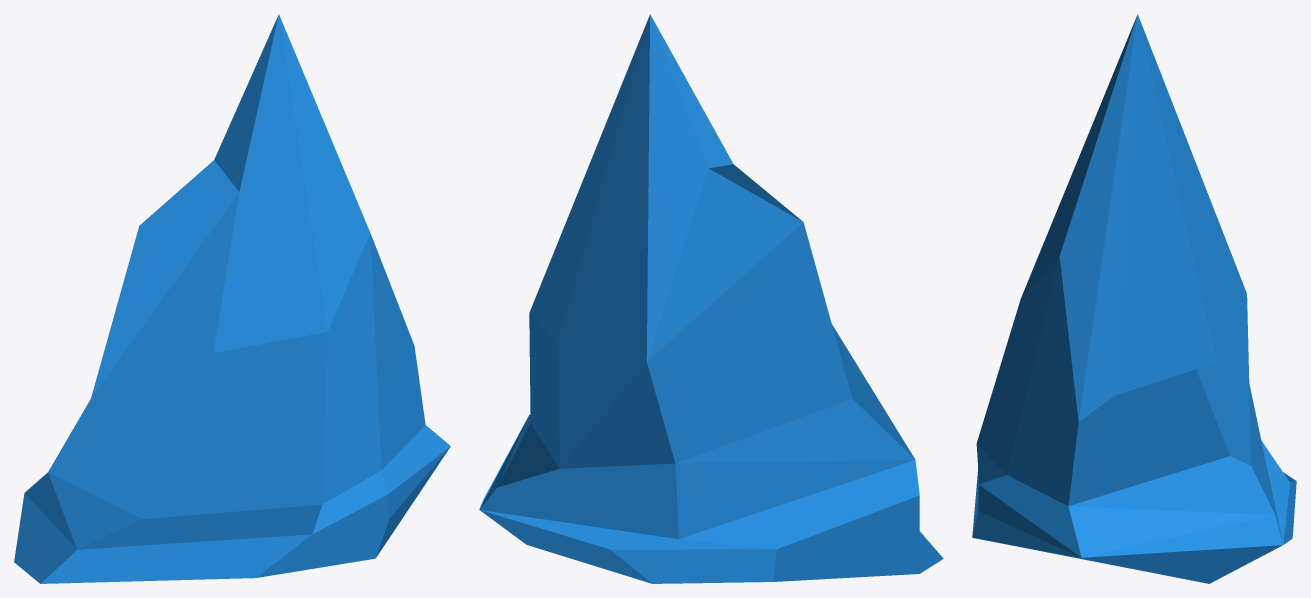
File: Mesh_Montagne3.fbx
3 renders of one model, left to right at view 1: azimuth 30°, elevation 25°; view 2: azimuth 150°, elevation 25°; view 3: azimuth 270°, elevation 25°, orthographic. The views are drawn at different scales.
Parts seen in each view (by area): view 1: montagne.003; view 2: montagne.003; view 3: montagne.003.
Boxes of the visible parts, x1,y1,x2,y2 form: montagne.003: (14, 14, 450, 583); montagne.003: (479, 14, 943, 583); montagne.003: (972, 14, 1296, 583).
Bounding box in the file's own units: 14936 × 17109 × 9776.
